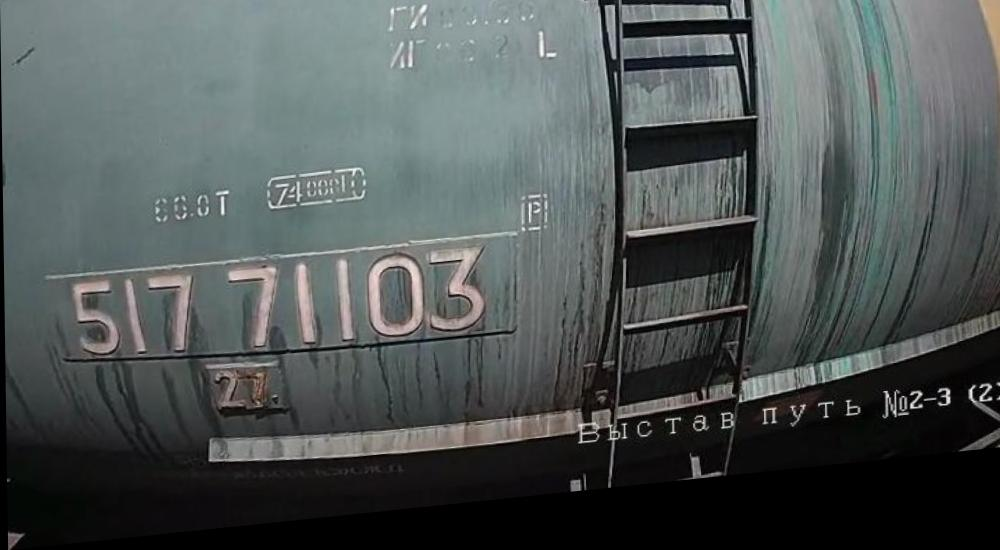Wagon-number: (67, 243, 492, 379)
